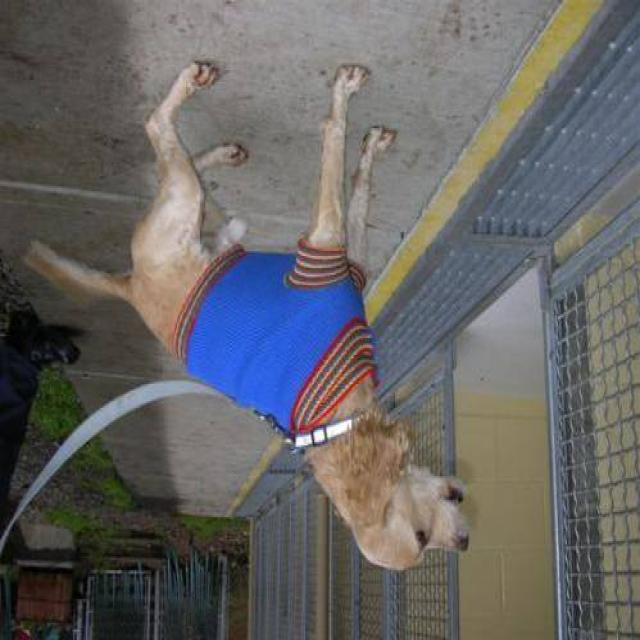dog: (31, 33, 488, 578)
